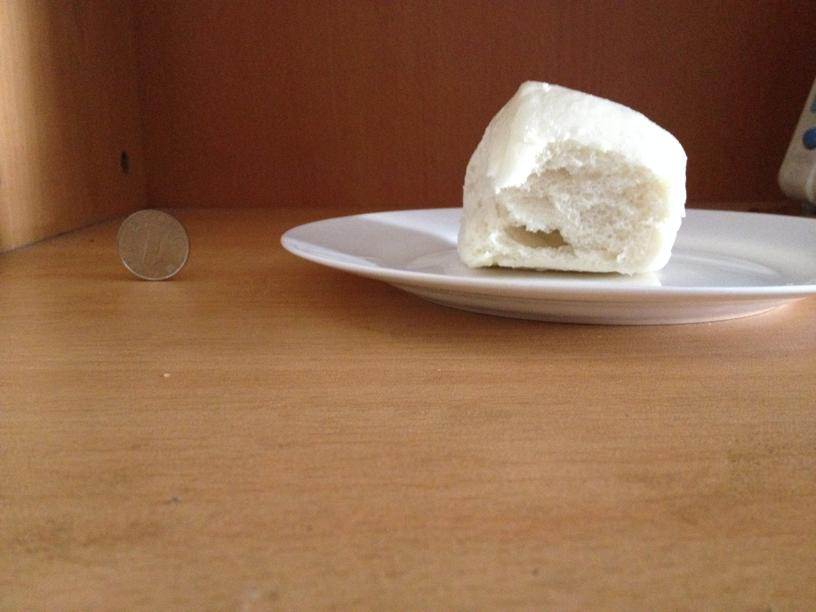bun: (462, 78, 688, 272)
coin: (116, 211, 190, 279)
